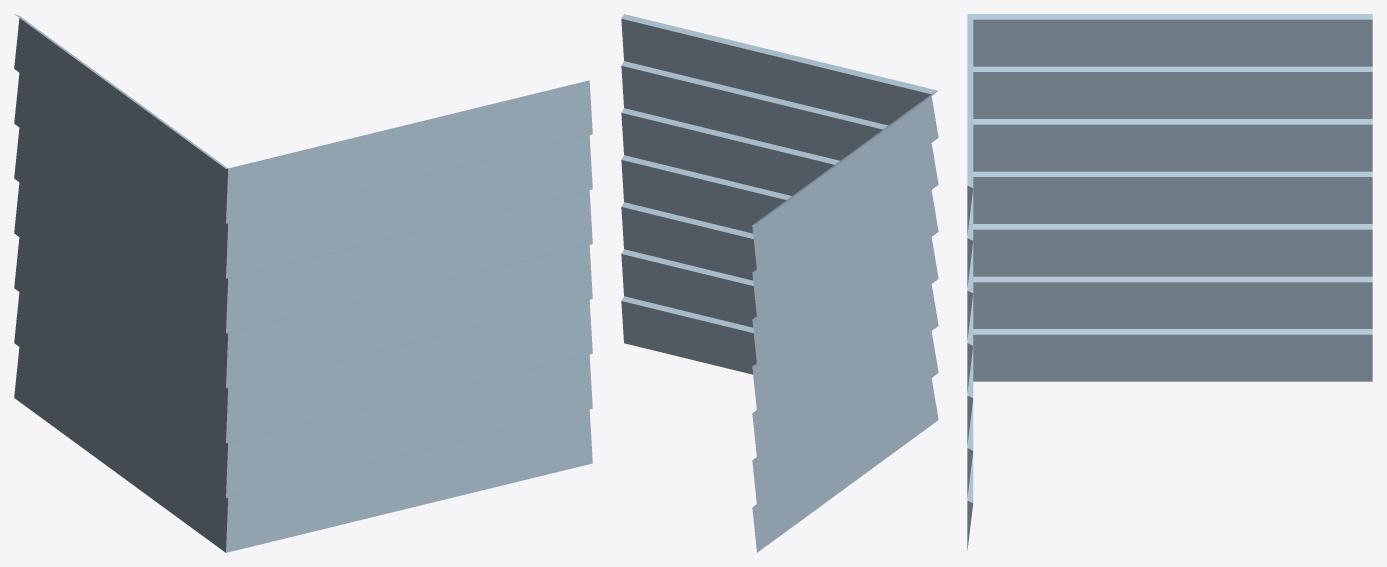
Rendered from HouseWallCorner.fbx.
The picture shows the model from 3 angles, left to right: view 1: azimuth 30°, elevation 25°; view 2: azimuth 150°, elevation 25°; view 3: azimuth 270°, elevation 25°; orthographic projection. The views are drawn at different scales.
Parts seen in each view (by area): view 1: Wall_01.001; view 2: Wall_01.001; view 3: Wall_01.001.
Part boxes in pixels (x1,y1,x2,y2): Wall_01.001: [14, 14, 592, 552]; Wall_01.001: [621, 14, 938, 552]; Wall_01.001: [967, 14, 1372, 550].
Size of the model in its own units: 200 by 200 by 200.
